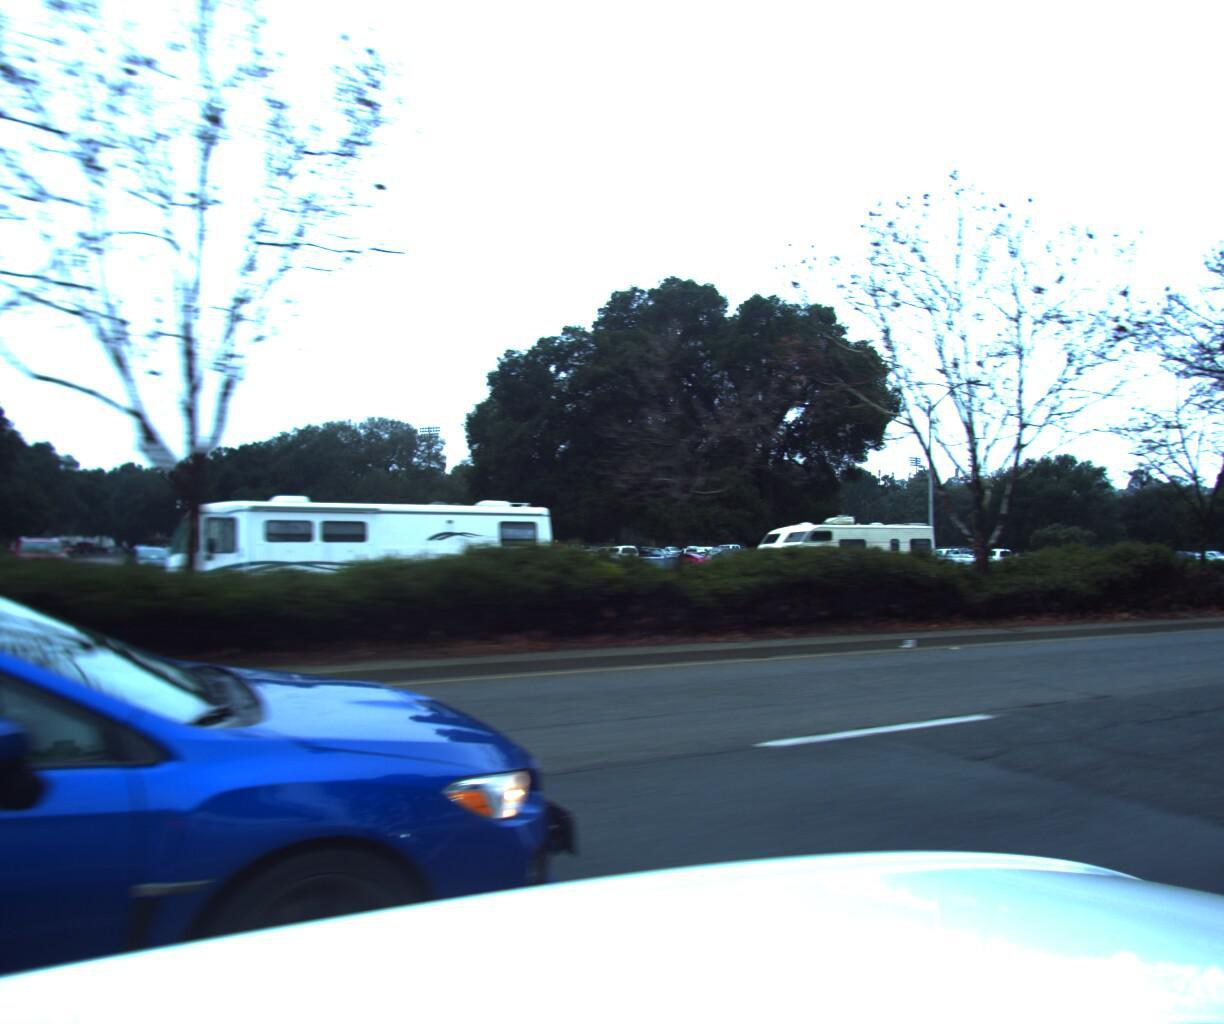car: (0, 554, 625, 1024), (579, 551, 729, 607)
other_vehicle: (161, 481, 558, 629), (745, 509, 939, 599)
